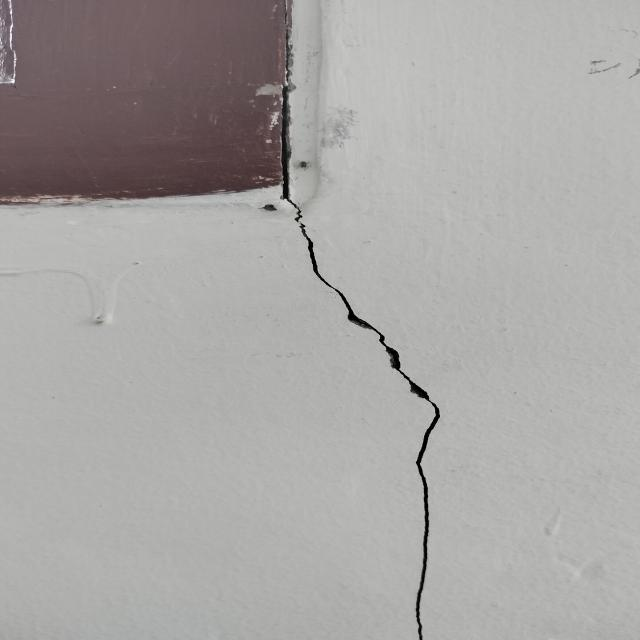Crack: (274, 212, 459, 640)
